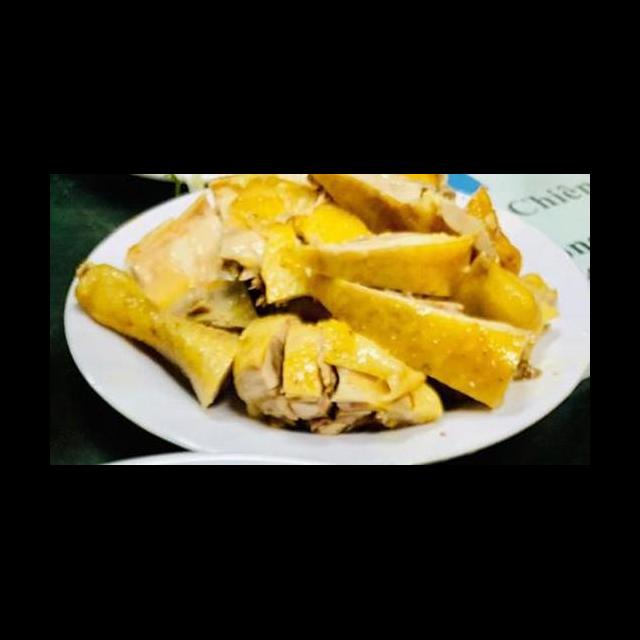thit ga: (304, 268, 543, 417), (69, 258, 244, 412), (205, 175, 382, 312), (276, 314, 446, 438), (124, 190, 266, 336), (276, 226, 485, 304), (228, 312, 339, 429), (449, 244, 563, 346), (303, 176, 458, 246), (428, 182, 525, 282)
